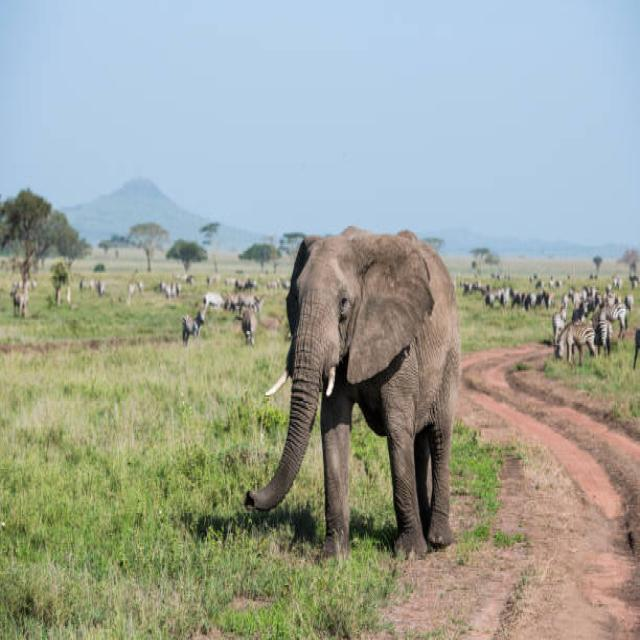Elephant: (256, 205, 472, 584)
